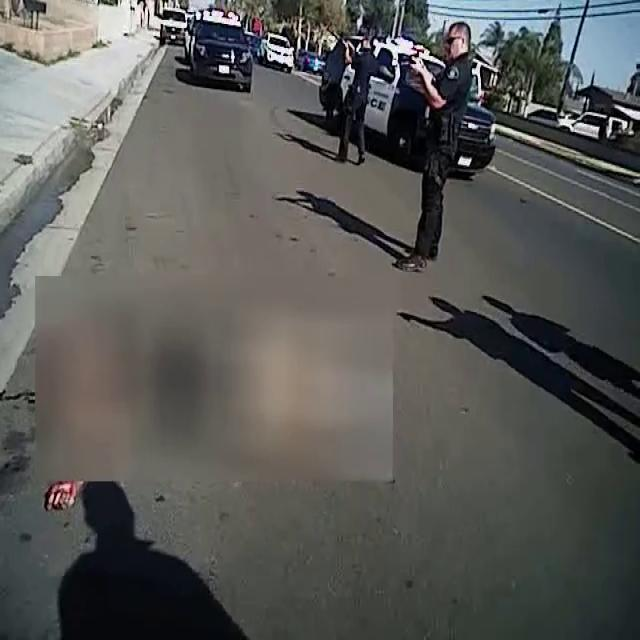gun: (391, 44, 423, 78), (333, 33, 349, 50)
